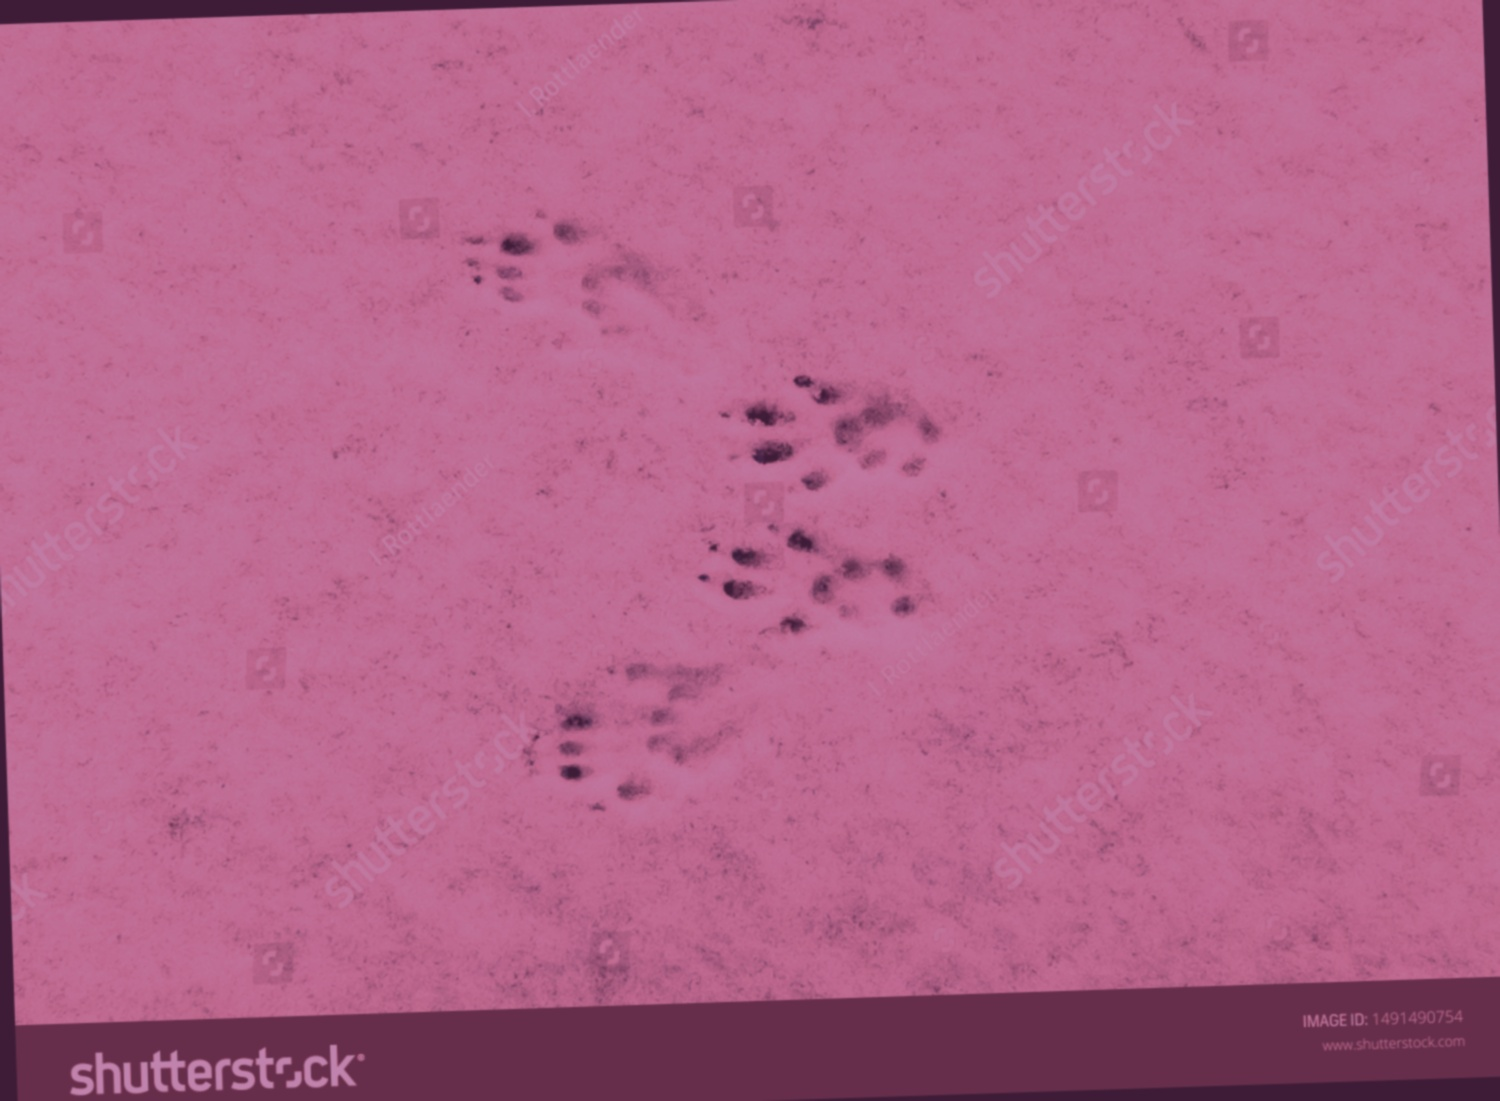ecureuil: (415, 178, 727, 386), (505, 637, 776, 830), (675, 495, 975, 655), (713, 332, 975, 507)
